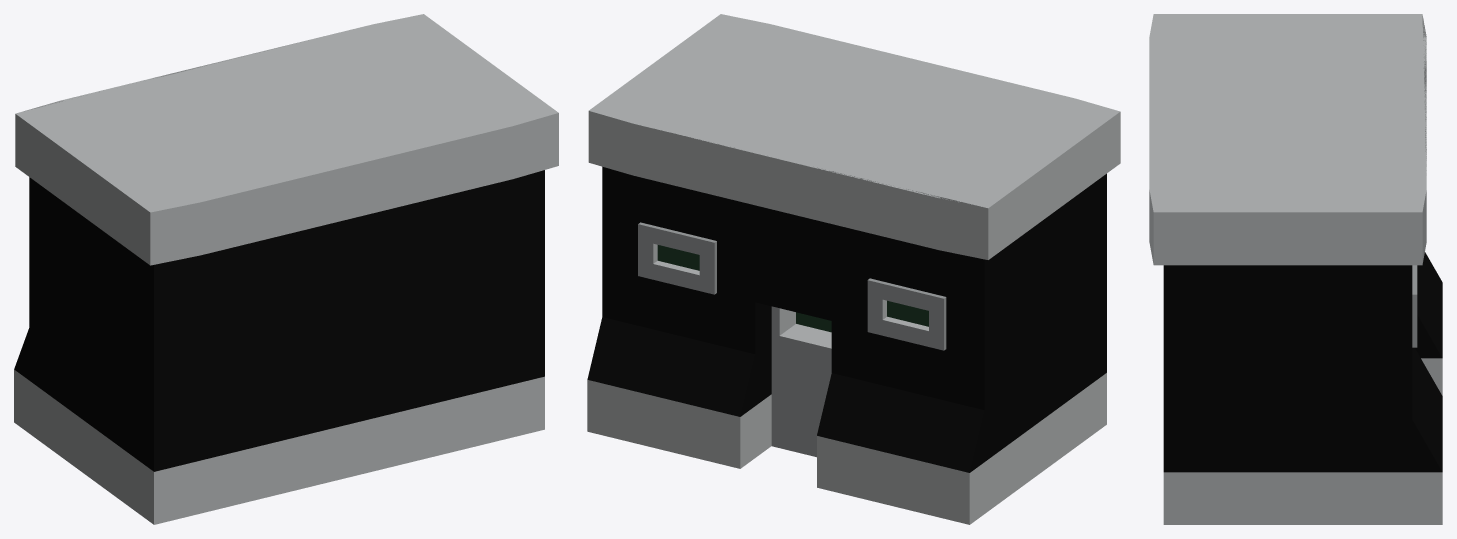
Rendered from storeC.fbx.
3 renders of one model, left to right at view 1: azimuth 30°, elevation 25°; view 2: azimuth 150°, elevation 25°; view 3: azimuth 270°, elevation 25°, orthographic. The views are drawn at different scales.
Parts seen in each view (by area): view 1: StoreC; view 2: StoreC; view 3: StoreC.
Part boxes in pixels (x1=…): StoreC: x1=14, y1=14, x2=558, y2=524; StoreC: x1=587, y1=14, x2=1120, y2=524; StoreC: x1=1149, y1=14, x2=1442, y2=524.
Size of the model in its own units: 776 by 578 by 484.
